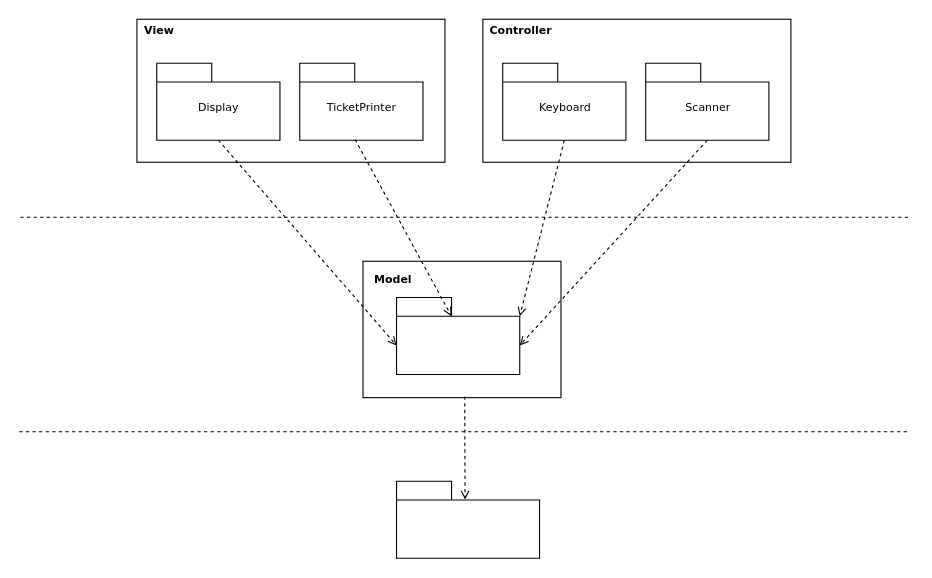
This 932x578 diagram has some shape labels left out. The shapes that lost their labels are listed below. From the top down, each one's centre as x and y in pixels, then its label:
the point at 457,335: CashRegister
the point at 467,519: Database
